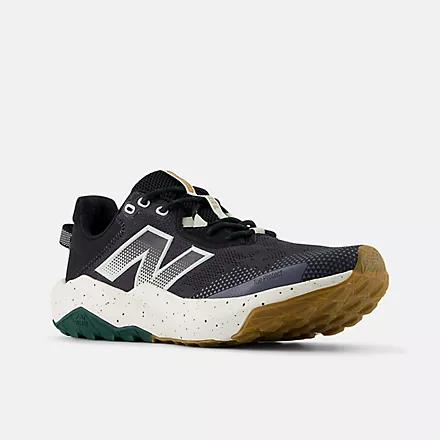NB logo: (87, 214, 224, 300)
